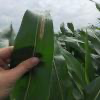Corn leaf blight: (16, 3, 57, 56)
